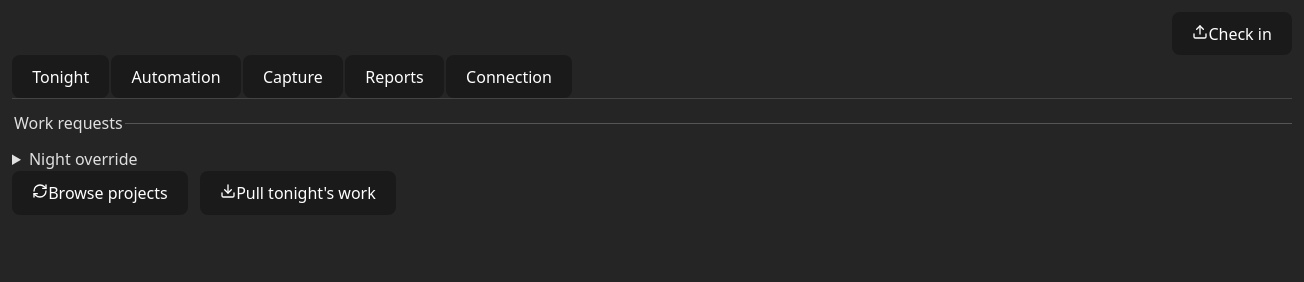
Test: Collaboration work transfer › explains that failed check-ins retain queued contributions and permits retry
The width and height of the screenshot is (1304, 282).
Click the button "Check in" at (1232,34), box [1172,12,1292,55]
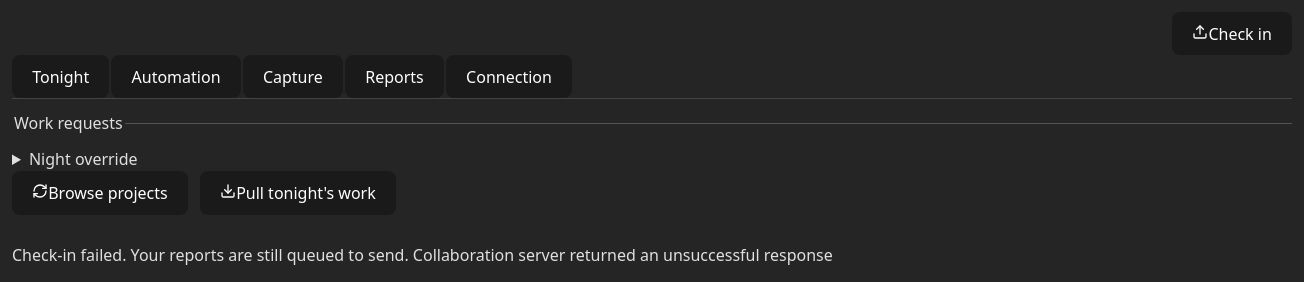
Expected: the message shows "Check-in failed. Your reports are still queued to send. Collaboration server returned an unsuccessful response", [12,244,833,266]
